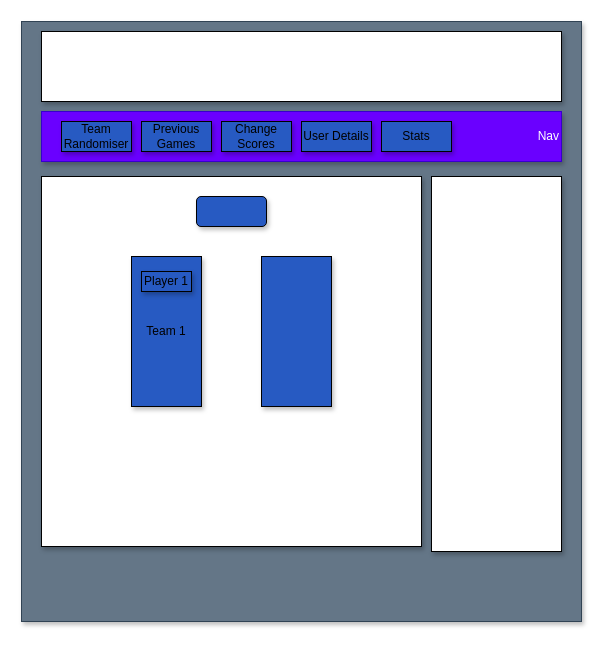
Image size: 605x646. Some labels were removed from this diagram. Each missing label, with the centre of its shape:
Header: the point at 302,67
Leaderboard: the point at 497,365
Randomise Teams: the point at 232,213
Team 2: the point at 297,333
